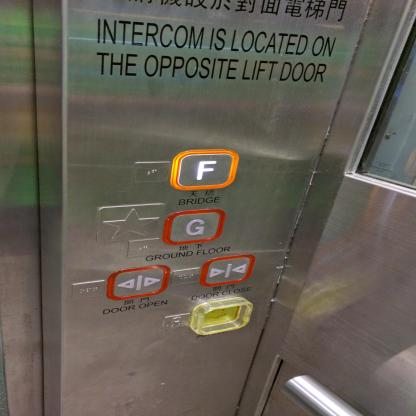F: (169, 149, 239, 191)
G: (160, 206, 227, 247)
alarm: (200, 302, 244, 331)
close: (197, 251, 257, 289)
open: (104, 264, 172, 302)
s: (96, 198, 162, 245)
